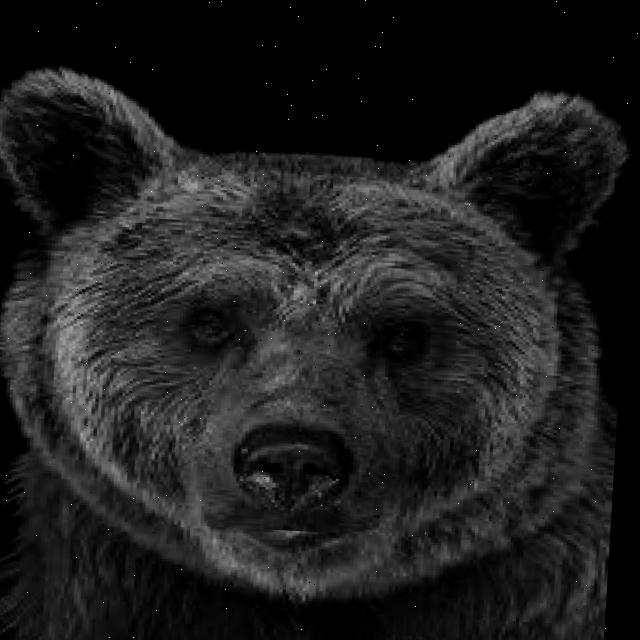Bear: (0, 63, 636, 634)
